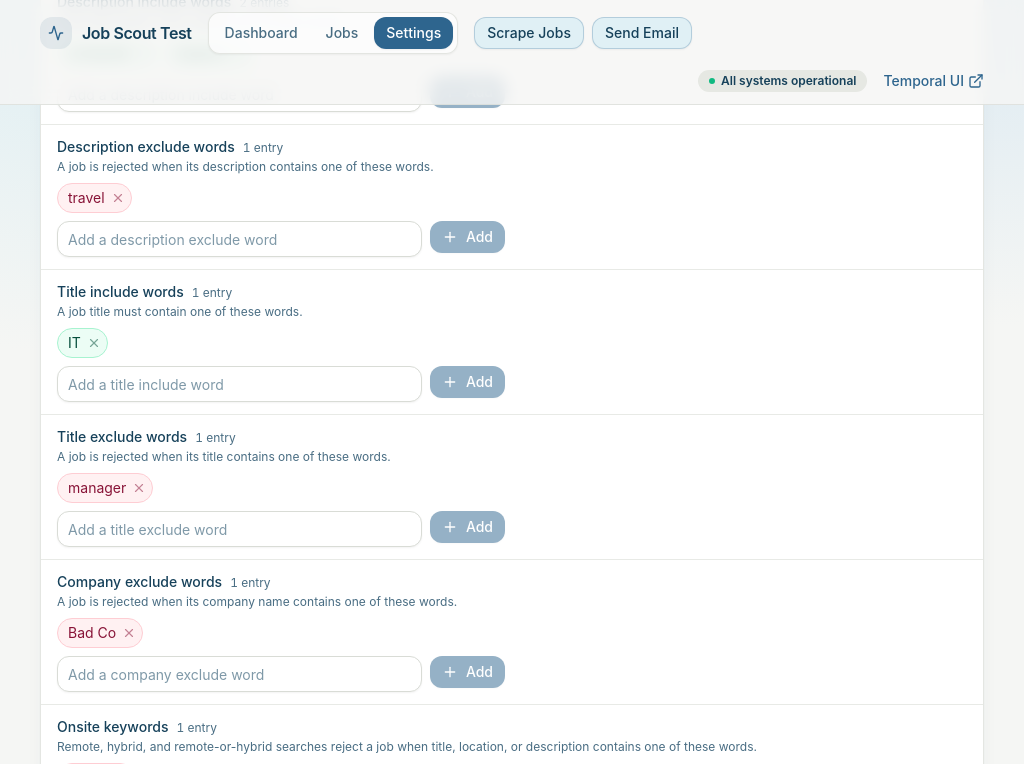
Scenario: operator shell › renders settings as entry editors and tracks dirty save state
(page scrolled)
Step 1. Type "  Desktop Support  " into the field named "Add title include word" → (239, 384), box left=57, top=366, right=422, bottom=402
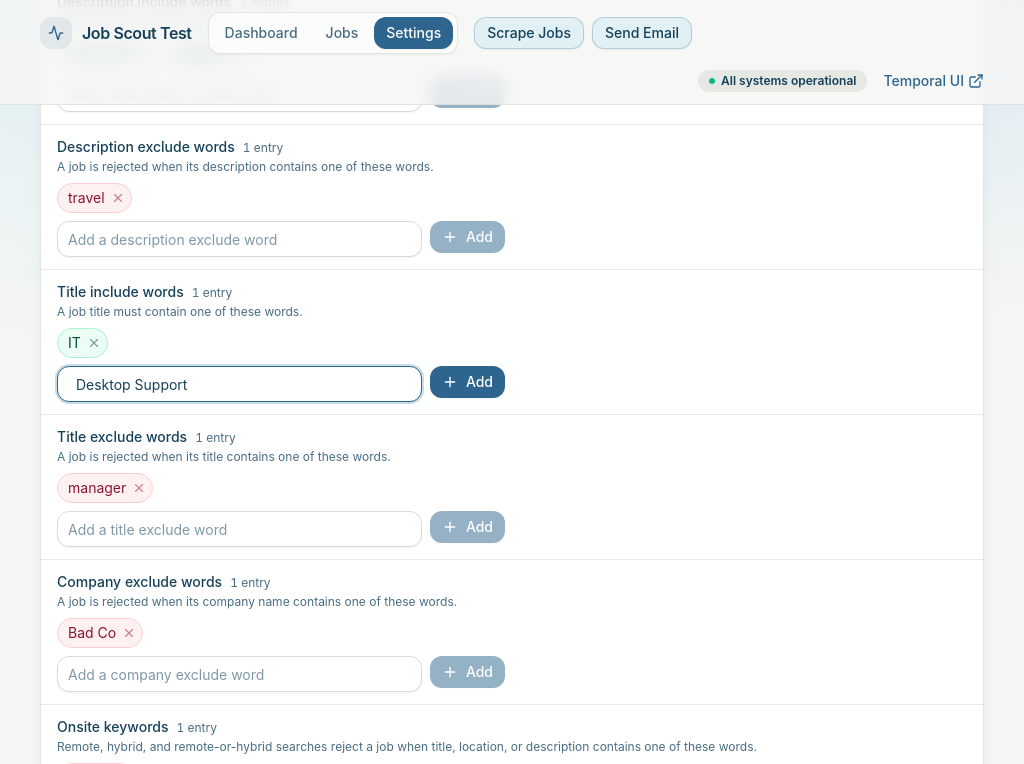
Step 2. Click the button named "Add title include word" → click(467, 382), box left=430, top=366, right=505, bottom=398
(page scrolled)
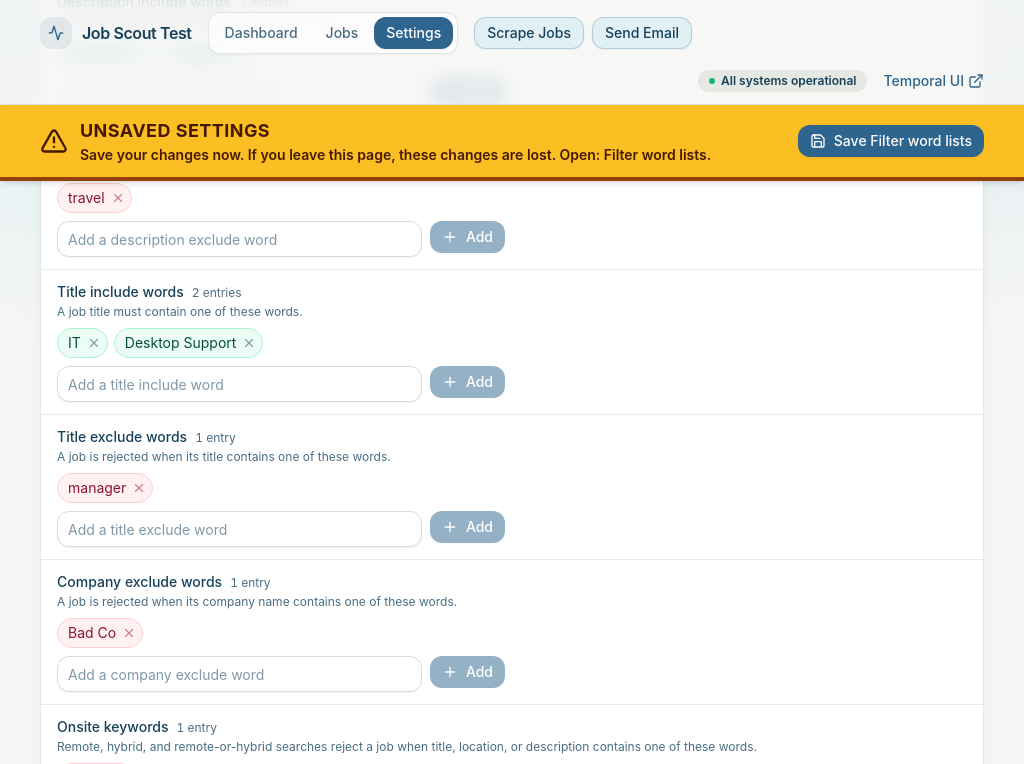
Now the button with aria-label "remove Desktop Support" is shown, box left=114, top=328, right=263, bottom=358
Now the message shows "Unsaved settings", box left=80, top=120, right=270, bottom=141
Now the message shows "Filter word lists", box left=604, top=146, right=707, bottom=163
